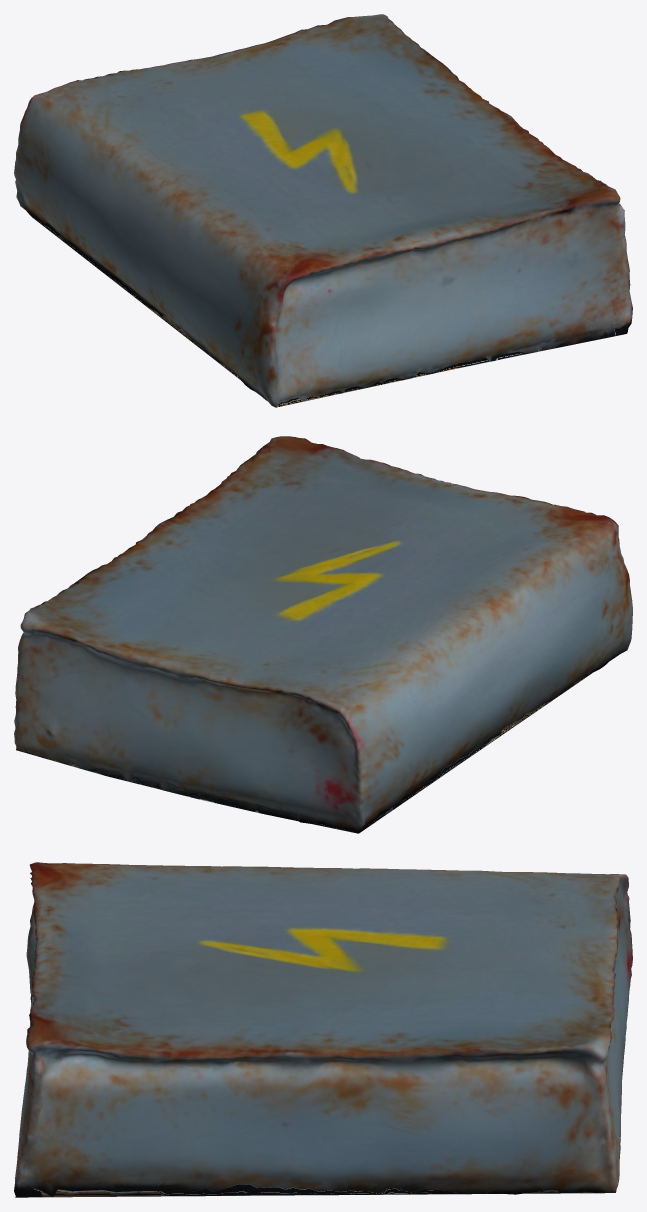
File: stromkasten.glb
3 renders of one model, top to bottom at view 1: azimuth 30°, elevation 25°; view 2: azimuth 150°, elevation 25°; view 3: azimuth 270°, elevation 25°, orthographic. The views are drawn at different scales.
Parts seen in each view (by area): view 1: fuzebox; view 2: fuzebox; view 3: fuzebox.
Boxes of the visible parts, x1,y1,x2,y2 form: fuzebox: [14, 14, 632, 407]; fuzebox: [14, 436, 632, 833]; fuzebox: [14, 862, 632, 1197].
Bounding box in the file's own units: 1.44 × 0.5098 × 1.84.
1 material, 1 textured.
